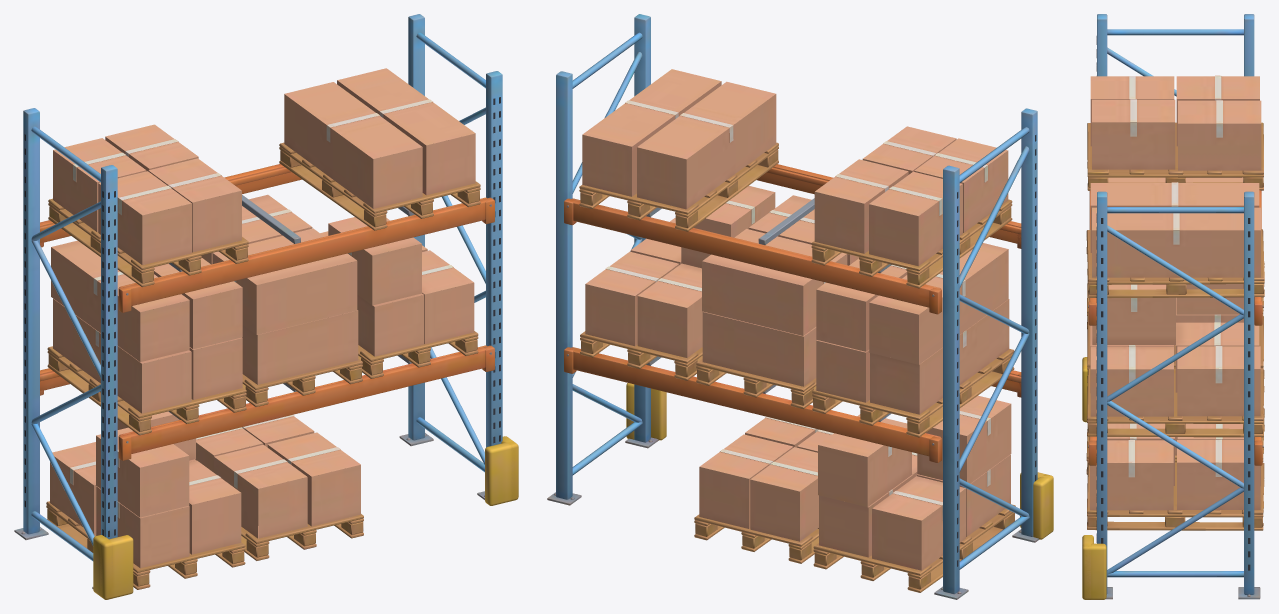
Rendered from pallet-rack-light.glb.
The picture shows the model from 3 angles, left to right: view 1: azimuth 30°, elevation 25°; view 2: azimuth 150°, elevation 25°; view 3: azimuth 270°, elevation 25°; orthographic projection. The views are drawn at different scales.
Parts seen in each view (by area): view 1: pallet-rack_body, pallet-rack_upright_slots; view 2: pallet-rack_body, pallet-rack_upright_slots; view 3: pallet-rack_body, pallet-rack_upright_slots.
Boxes of the visible parts, <box> form: pallet-rack_body: <box>14,14,518,599</box>; pallet-rack_upright_slots: <box>24,97,500,537</box>; pallet-rack_body: <box>547,14,1053,599</box>; pallet-rack_upright_slots: <box>957,135,1036,566</box>; pallet-rack_body: <box>1082,14,1264,599</box>; pallet-rack_upright_slots: <box>1096,36,1250,570</box>.
Size of the model in its own units: 3.08 by 3 by 1.24.
2 materials, 1 textured.
